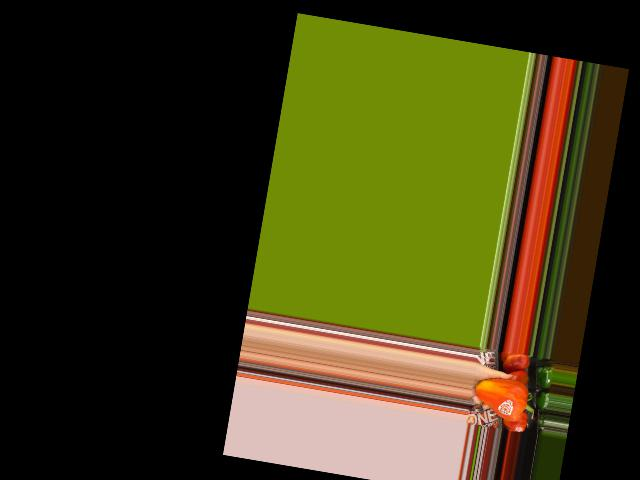bell_pepper: (472, 370, 540, 426)
